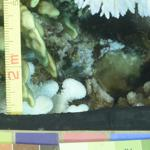alive: (35, 1, 142, 115)
